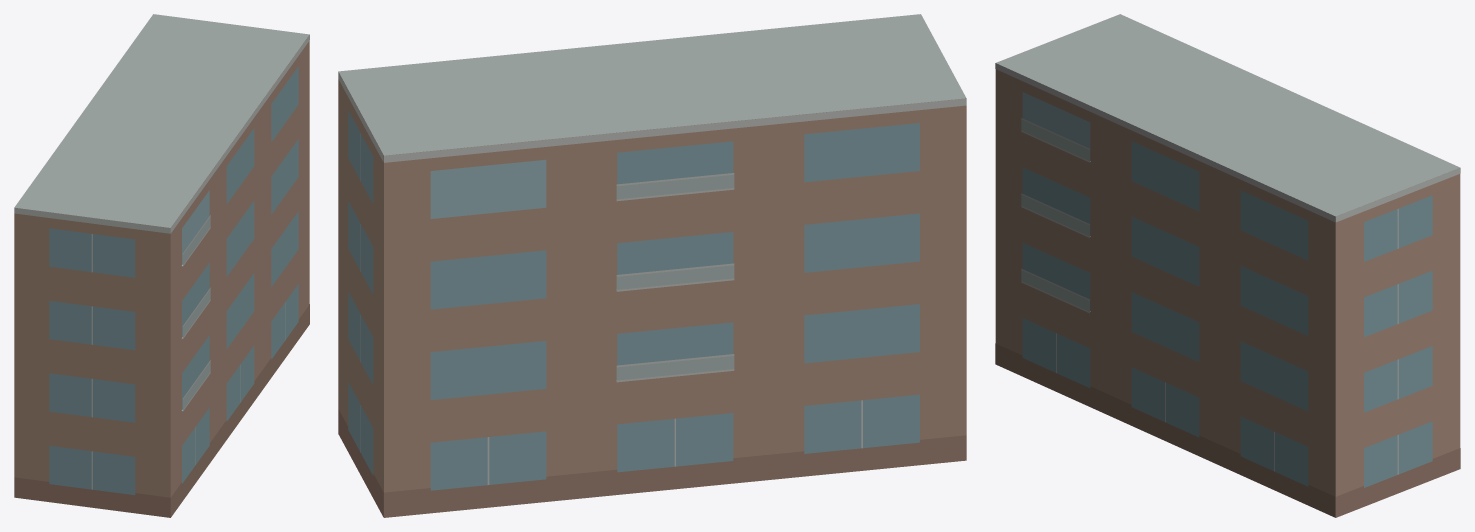
File: survey-upis-32931131.glb
3 views of the same model, side by side, from view 1: azimuth 30°, elevation 25°; view 2: azimuth 150°, elevation 25°; view 3: azimuth 270°, elevation 25° (orthographic). The views are drawn at different scales.
Parts seen in each view (by area): view 1: survey-upis-32931131.tmp; view 2: survey-upis-32931131.tmp; view 3: survey-upis-32931131.tmp.
Part boxes in pixels (x1,y1,x2,y2): survey-upis-32931131.tmp: (14,14,309,517); survey-upis-32931131.tmp: (338,14,966,517); survey-upis-32931131.tmp: (995,14,1460,517).
Size of the model in its own units: 17.59 by 12.2 by 17.06.
